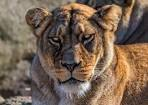lion: (20, 1, 147, 103)
